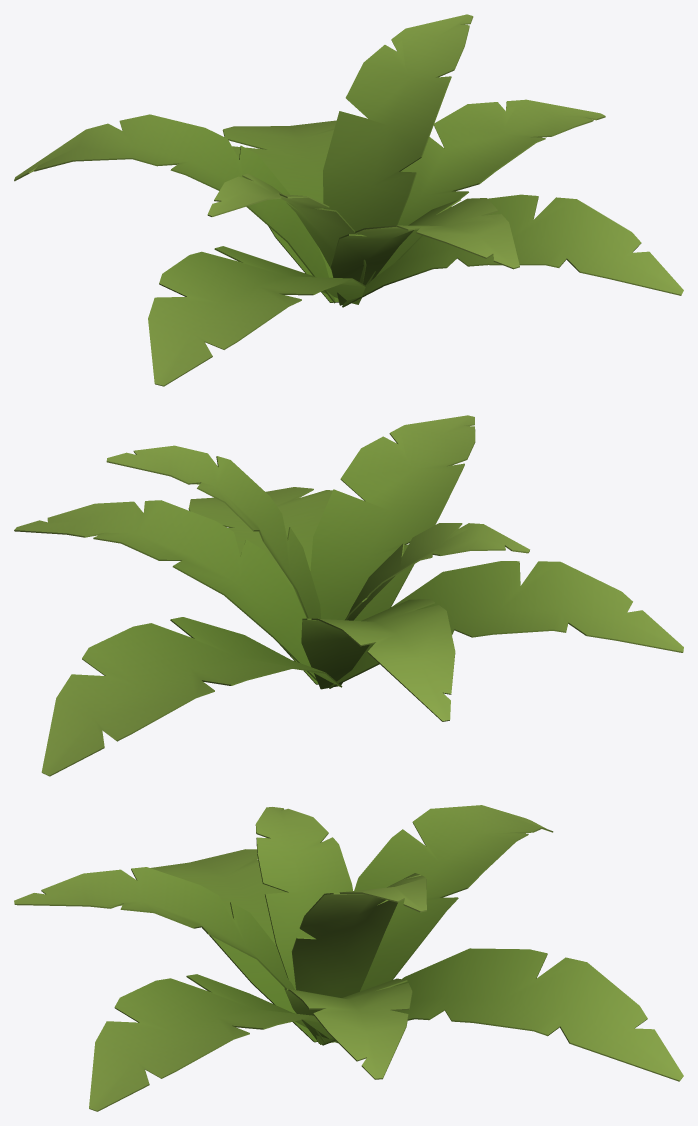
File: Plant_02.fbx
The picture shows the model from 3 angles, top to bottom: view 1: azimuth 30°, elevation 25°; view 2: azimuth 150°, elevation 25°; view 3: azimuth 270°, elevation 25°; orthographic projection. The views are drawn at different scales.
Visible parts, largest first — view 1: Plant_02_LOD0; view 2: Plant_02_LOD0; view 3: Plant_02_LOD0.
Part boxes in pixels (x1,y1,x2,y2): Plant_02_LOD0: [14, 14, 683, 386]; Plant_02_LOD0: [14, 415, 683, 776]; Plant_02_LOD0: [14, 805, 683, 1111].
Size of what is drawn, in the model's own units: 1.24 by 0.4596 by 1.29.
